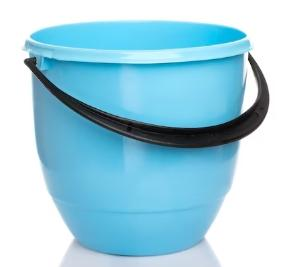SEAU: (8, 14, 291, 259)
